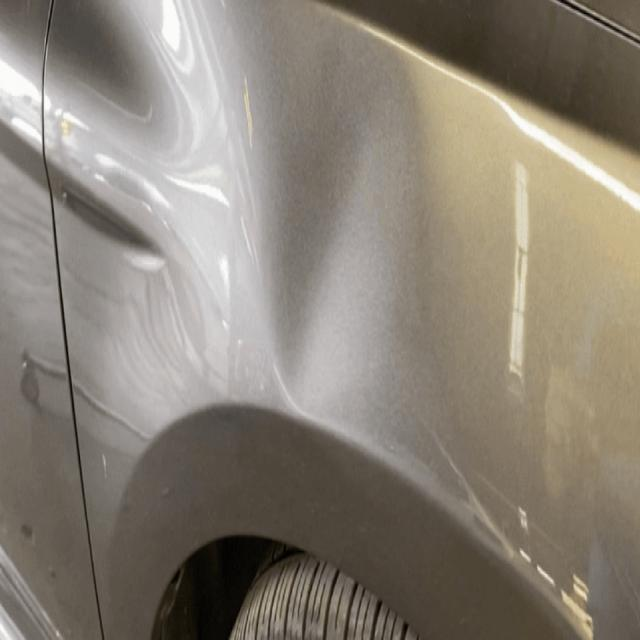dents: (245, 54, 412, 446)
